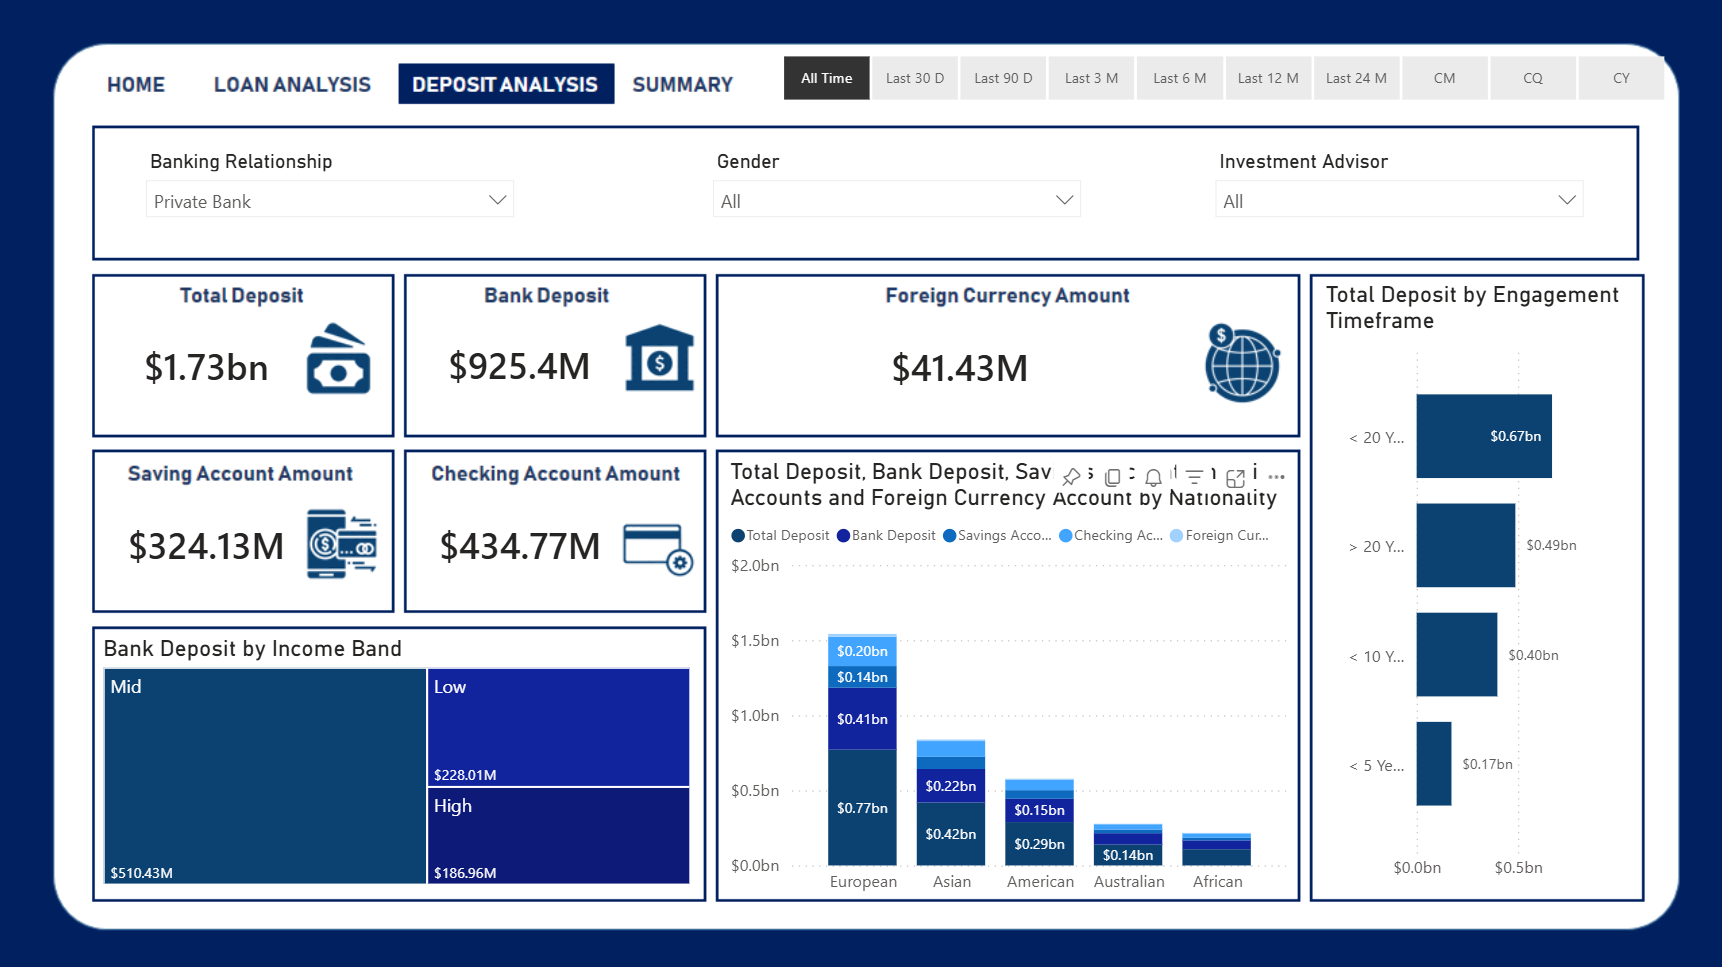

This screenshot's page, from the dashboard's own definition file:
{"tool":"powerbi","page":{"name":"Deposit Analysis","canvas":[1280,720],"ordinal":2},"visuals":[{"type":"card","fields":{"Values":["DAX Measures.Total Deposit"]},"box":[72.7,226.3,161.8,90.3],"z":0},{"type":"card","fields":{"Values":["DAX Measures.Bank Deposit"]},"box":[299,226.3,172.4,89.1],"z":1000},{"type":"card","fields":{"Values":["DAX Measures.Savings Account"]},"box":[72.7,360,161.8,89.1],"z":2000},{"type":"card","fields":{"Values":["DAX Measures.Checking Accounts"]},"box":[300.2,360,171.2,89.1],"z":3000},{"type":"slicer","fields":{"Values":["Banking Relationship.Banking Relationship"]},"box":[98.5,105.2,292.9,75.7],"z":4000},{"type":"slicer","fields":{"Values":["Gender.Gender"]},"box":[518.9,105.2,292.9,75.7],"z":5000},{"type":"slicer","fields":{"Values":["Investment Advisor.Investment Advisor"]},"box":[891.3,105.2,292.9,75.7],"z":6000},{"type":"card","fields":{"Values":["DAX Measures.Foreign Currency Account"]},"box":[537.1,227.5,349.4,89.1],"z":7000},{"type":"treemap","fields":{"Group":["Clients - Banking.Income Band"],"Values":["DAX Measures.Bank Deposit"]},"box":[72.7,470.2,444.4,190],"z":8000},{"type":"columnChart","fields":{"Category":["Clients - Banking.Nationality"],"Y":["DAX Measures.Total Deposit","DAX Measures.Bank Deposit","DAX Measures.Savings Account","DAX Measures.Checking Accounts","DAX Measures.Foreign Currency Account"]},"box":[537.1,338.9,423.3,331.9],"z":9000},{"type":"clusteredBarChart","fields":{"Category":["Clients - Banking.Engagement Timeframe"],"Y":["DAX Measures.Total Deposit"]},"box":[978,207.6,234.5,452.6],"z":10000},{"type":"slicer","fields":{"Values":["Period.Name"]},"box":[555.2,34.6,702.1,46.6],"z":11000},{"type":"actionButton","box":[72.8,44.2,58.5,31],"z":12000},{"type":"actionButton","box":[160,44.2,119.4,31],"z":13000},{"type":"actionButton","box":[471.6,44.2,83.6,31],"z":14000}]}

Visuals, with their boxes in screenshot pixels (x1, y1, x2, y2), scaled from the page's 1280x720 canvas onto the 1722x967 screenshot:
card - DAX Measures.Total Deposit: box(98, 304, 315, 425)
card - DAX Measures.Bank Deposit: box(402, 304, 634, 424)
card - DAX Measures.Savings Account: box(98, 483, 315, 603)
card - DAX Measures.Checking Accounts: box(404, 483, 634, 603)
slicer - Banking Relationship.Banking Relationship: box(133, 141, 527, 243)
slicer - Gender.Gender: box(698, 141, 1092, 243)
slicer - Investment Advisor.Investment Advisor: box(1199, 141, 1593, 243)
card - DAX Measures.Foreign Currency Account: box(723, 306, 1193, 425)
treemap - Clients - Banking.Income Band x DAX Measures.Bank Deposit: box(98, 632, 696, 887)
columnChart - Clients - Banking.Nationality x DAX Measures.Total Deposit: box(723, 455, 1292, 901)
clusteredBarChart - Clients - Banking.Engagement Timeframe x DAX Measures.Total Deposit: box(1316, 279, 1631, 887)
slicer - Period.Name: box(747, 46, 1691, 109)
actionButton: box(98, 59, 177, 101)
actionButton: box(215, 59, 376, 101)
actionButton: box(634, 59, 747, 101)
